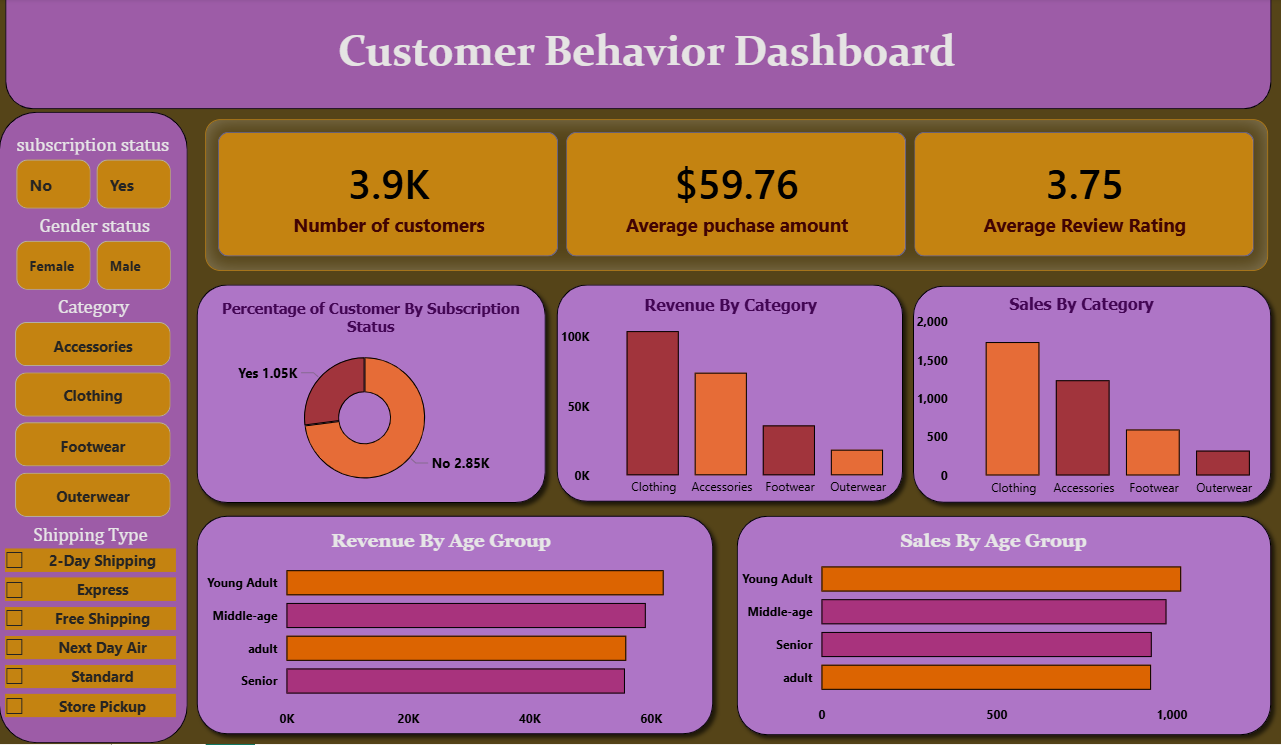

This screenshot's page, from the dashboard's own definition file:
{"tool":"powerbi","page":{"name":"Page 1","canvas":[1262,744],"ordinal":0},"visuals":[{"type":"shape","box":[0,0,1262.3,110.9],"z":0},{"type":"textbox","box":[316.6,21.6,658.9,67.6],"z":1000},{"type":"cardVisual","fields":{"Data":["public customer.Number of customers","public customer.Average puchase amount","public customer.Average Review Rating"]},"box":[205.5,120.7,1046.1,151.2],"z":2000},{"type":"shape","box":[188.6,277.3,366,236],"z":3000},{"type":"shape","box":[547.1,277.3,363.3,234.7],"z":4000},{"type":"shape","box":[902.9,278.4,352.7,233.4],"z":5000},{"type":"donutChart","fields":{"Y":["CountNonNull(public customer.customer_id)"],"Category":["public customer.subscription_status"]},"box":[205.5,335.5,318.2,167.1],"z":6000},{"type":"shape","box":[205.5,290.4,330.2,55.7],"z":7000},{"type":"clusteredColumnChart","fields":{"Y":["Sum(public customer.purchase_amount)"],"Category":["public customer.category"]},"box":[559.5,297,351.4,205.5],"z":8000},{"type":"shape","box":[564.8,286.4,330.2,38.5],"z":9000},{"type":"clusteredColumnChart","fields":{"Y":["Sum(public customer.customer_id)"],"Category":["public customer.category"]},"box":[917.5,316.9,342.1,185.6],"z":10000},{"type":"shape","box":[950.7,290.4,257.2,38.5],"z":11000},{"type":"shape","box":[0,114,188.3,629.8],"z":12000},{"type":"advancedSlicerVisual","title":"subscription status","fields":{"Values":["public customer.subscription_status"]},"box":[11.9,135.2,165.7,80.9],"z":13000},{"type":"advancedSlicerVisual","title":"Gender status","fields":{"Values":["public customer.gender"]},"box":[11.9,216.1,165.7,80.9],"z":14000},{"type":"advancedSlicerVisual","title":"Category","fields":{"Values":["public customer.category"]},"box":[10.6,297,165.7,226.7],"z":15000},{"type":"listSlicer","title":"Shipping Type","fields":{"Values":["public customer.shipping_type"]},"box":[6.6,523.7,175,198.9],"z":16000},{"type":"shape","box":[188.3,507.8,533,236],"z":17000},{"type":"shape","box":[726.6,507.8,533,236],"z":18000},{"type":"clusteredBarChart","fields":{"Category":["public customer.age_group"],"Y":["Sum(public customer.purchase_amount)"]},"box":[205.5,545,515.8,188.3],"z":19000},{"type":"shape","box":[290.4,513.1,301,55.7],"z":20000},{"type":"clusteredBarChart","fields":{"Category":["public customer.age_group"],"Y":["CountNonNull(public customer.customer_id)"]},"box":[739.9,541,515.8,188.3],"z":21000},{"type":"shape","box":[842,513.1,301,55.7],"z":22000}]}

Visuals, with their boxes in screenshot pixels (x1, y1, x2, y2), scaled from the page's 1262x744 canvas onto the 1281x745 screenshot:
shape: left=0, top=0, right=1280, bottom=111
textbox: left=321, top=22, right=990, bottom=89
cardVisual - public customer.Number of customers x public customer.Average puchase amount: left=209, top=121, right=1270, bottom=272
shape: left=191, top=278, right=563, bottom=514
shape: left=555, top=278, right=924, bottom=513
shape: left=916, top=279, right=1275, bottom=512
donutChart - CountNonNull(public customer.customer_id) x public customer.subscription_status: left=209, top=336, right=532, bottom=503
shape: left=209, top=291, right=544, bottom=347
clusteredColumnChart - Sum(public customer.purchase_amount) x public customer.category: left=568, top=297, right=925, bottom=503
shape: left=573, top=287, right=908, bottom=325
clusteredColumnChart - Sum(public customer.customer_id) x public customer.category: left=931, top=317, right=1279, bottom=503
shape: left=965, top=291, right=1226, bottom=329
shape: left=0, top=114, right=191, bottom=744
"subscription status" advancedSlicerVisual: left=12, top=135, right=180, bottom=216
"Gender status" advancedSlicerVisual: left=12, top=216, right=180, bottom=297
"Category" advancedSlicerVisual: left=11, top=297, right=179, bottom=524
"Shipping Type" listSlicer: left=7, top=524, right=184, bottom=724
shape: left=191, top=508, right=732, bottom=744
shape: left=738, top=508, right=1279, bottom=744
clusteredBarChart - public customer.age_group x Sum(public customer.purchase_amount): left=209, top=546, right=732, bottom=734
shape: left=295, top=514, right=600, bottom=570
clusteredBarChart - public customer.age_group x CountNonNull(public customer.customer_id): left=751, top=542, right=1275, bottom=730
shape: left=855, top=514, right=1160, bottom=570
